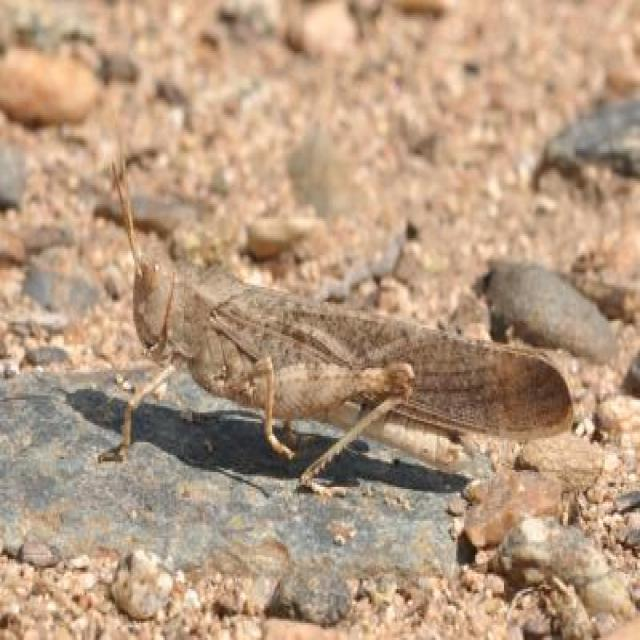antennae: (109, 155, 138, 256), (119, 134, 138, 240)
body: (130, 238, 458, 462)
insect: (97, 131, 579, 493)
legs: (250, 363, 418, 491), (197, 360, 293, 464), (103, 358, 178, 468)
mouthpart: (134, 326, 168, 359)
wings: (216, 278, 572, 437)
